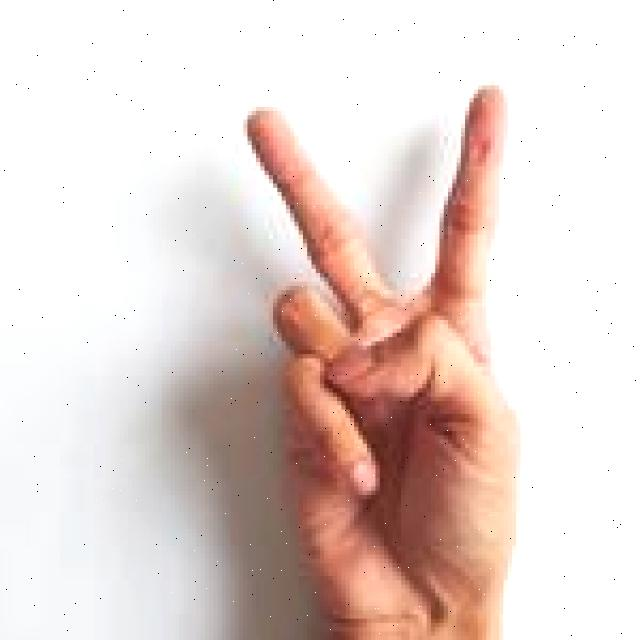V: (236, 77, 544, 640)
